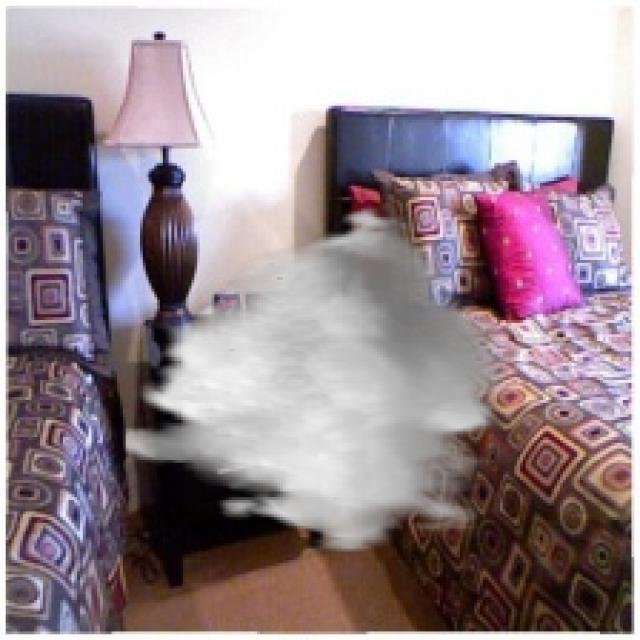Smoke: (122, 199, 512, 552)
